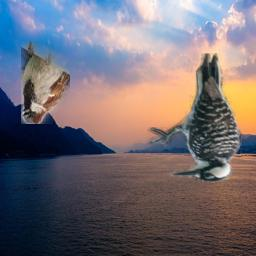Sparrow: (21, 42, 70, 124)
Woodpecker: (146, 53, 244, 183)
